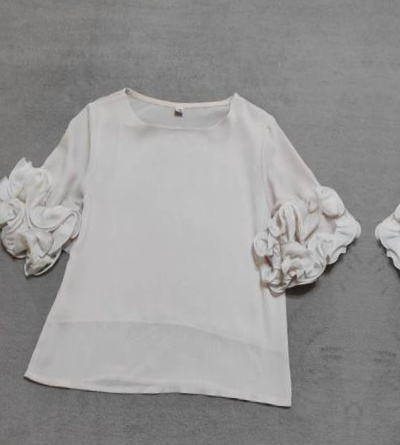Blouse: (0, 55, 371, 432), (361, 86, 400, 445)
